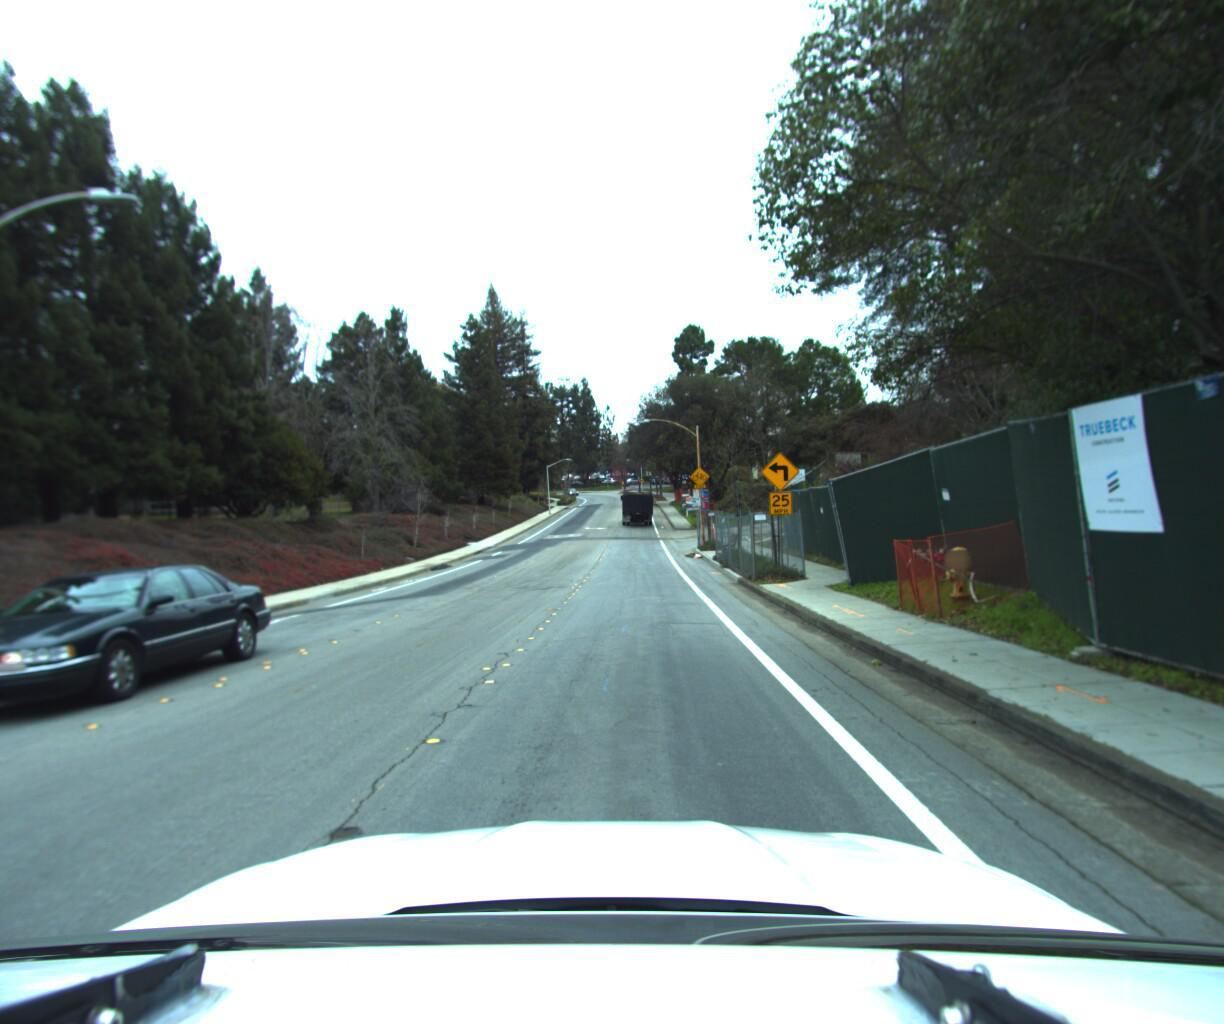car: (0, 540, 273, 790)
truck: (618, 479, 656, 526)
